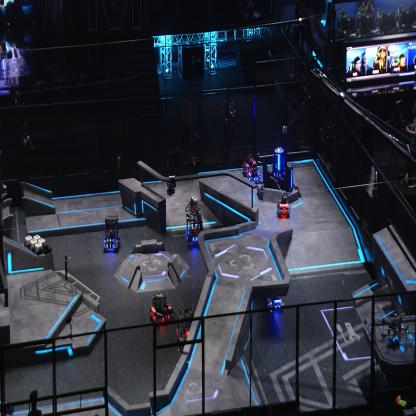car: (148, 290, 176, 327), (177, 304, 198, 349), (184, 202, 204, 248), (103, 214, 121, 252), (267, 286, 284, 314), (276, 192, 292, 218), (242, 152, 258, 176), (246, 165, 262, 185)
